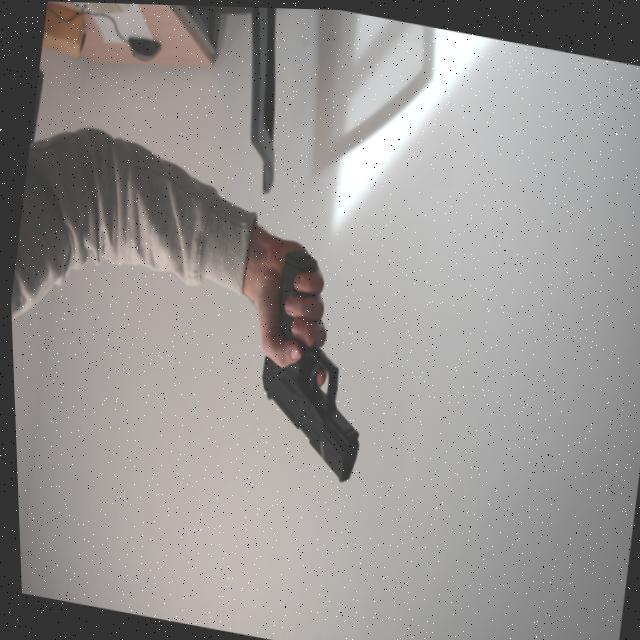pistol: (241, 327, 372, 483)
